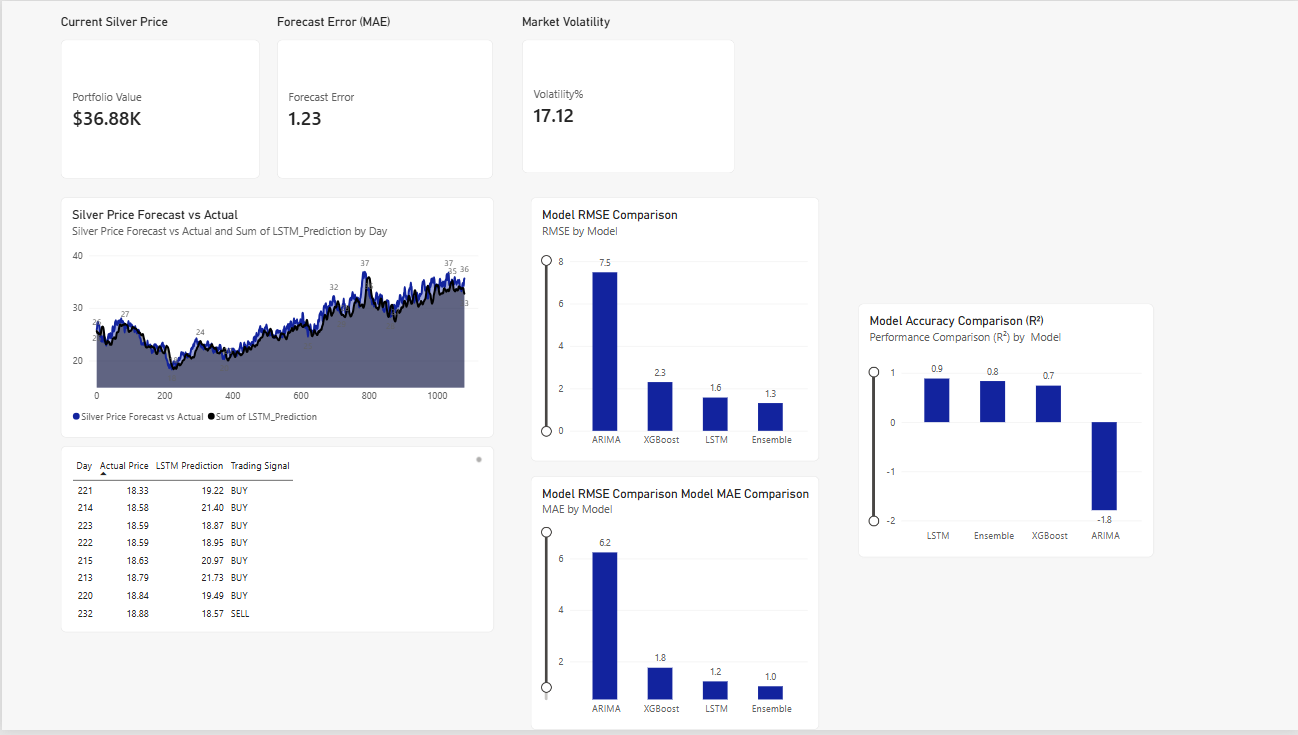

The dashboard page shown, as its layout file describes it:
{"tool":"powerbi","page":{"name":"Silver Price Forecast Analytics","canvas":[1920,1080],"ordinal":0},"visuals":[{"type":"lineChart","title":"Silver Price Forecast vs Actual","fields":{"Category":["silver_dashboard.Day"],"Y":["Sum(silver_dashboard.Actual_Price)","Sum(silver_dashboard.LSTM_Prediction)"]},"box":[86.2,291.2,641.2,356.2],"z":0},{"type":"tableEx","fields":{"Values":["silver_dashboard.Day","silver_dashboard.Actual_Price","silver_dashboard.LSTM_Prediction","silver_dashboard.Signal"]},"box":[86.2,660,641.2,276.2],"z":1000},{"type":"cardVisual","title":"Current Silver Price","fields":{"Data":["silver_dashboard.Portfolio Value"]},"box":[86.2,21.2,295,243.8],"z":2000},{"type":"cardVisual","title":"Forecast Error (MAE)","fields":{"Data":["silver_dashboard.Forecast Error"]},"box":[407.5,21.2,320,243.8],"z":2001},{"type":"clusteredColumnChart","title":"Model Accuracy Comparison (R²)","fields":{"Category":["model_comparison.Model"],"Y":["Sum(model_comparison.R2)"]},"box":[1268.8,448.8,437.5,376.2],"z":2002},{"type":"clusteredColumnChart","title":"Model RMSE Comparison Model MAE Comparison","fields":{"Category":["model_comparison.Model"],"Y":["Sum(model_comparison.MAE)"]},"box":[783.8,703.8,427.5,376.2],"z":2003},{"type":"clusteredColumnChart","title":"Model RMSE Comparison","fields":{"Category":["model_comparison.Model"],"Y":["Sum(model_comparison.RMSE)"]},"box":[783.8,291.2,427.5,391.2],"z":2004},{"type":"cardVisual","title":"Market Volatility","fields":{"Data":["model_comparison.Volatility %"]},"box":[771.2,21.2,315,235],"z":2005}]}

Visuals, with their boxes in screenshot pixels (x1, y1, x2, y2), scaled from the page's 1920x1080 canvas onto the 1298x735 screenshot:
"Silver Price Forecast vs Actual" lineChart: locate(58, 198, 492, 441)
tableEx - silver_dashboard.Day x silver_dashboard.Actual_Price: locate(58, 449, 492, 637)
"Current Silver Price" cardVisual: locate(58, 14, 258, 180)
"Forecast Error (MAE)" cardVisual: locate(275, 14, 492, 180)
"Model Accuracy Comparison (R²)" clusteredColumnChart: locate(858, 305, 1154, 561)
"Model RMSE Comparison Model MAE Comparison" clusteredColumnChart: locate(530, 479, 819, 734)
"Model RMSE Comparison" clusteredColumnChart: locate(530, 198, 819, 464)
"Market Volatility" cardVisual: locate(521, 14, 734, 174)
